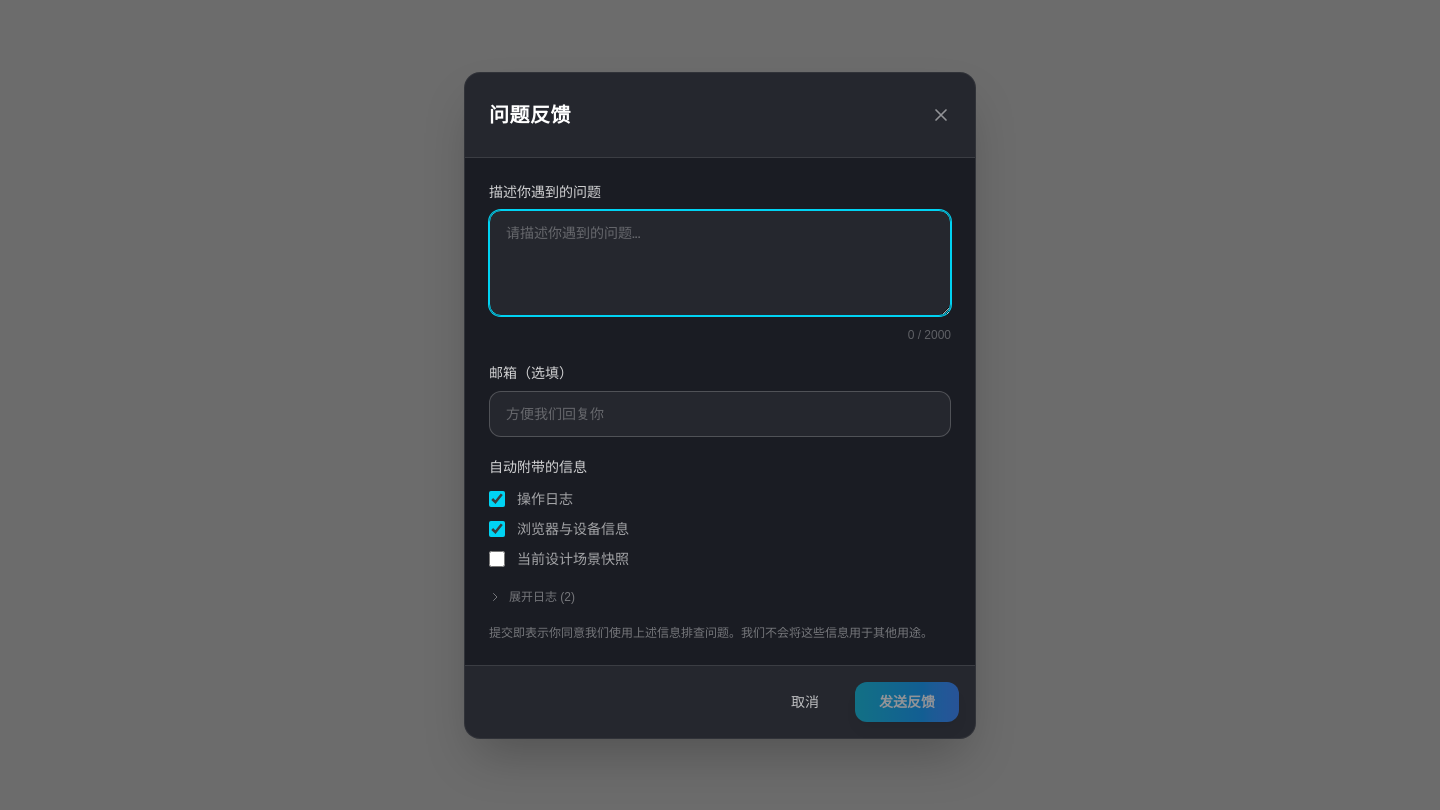
Test: FeedbackDialog › 展开/收起日志预览
Click the button "展开日志 (2)": (532, 596) [489, 588, 575, 604]
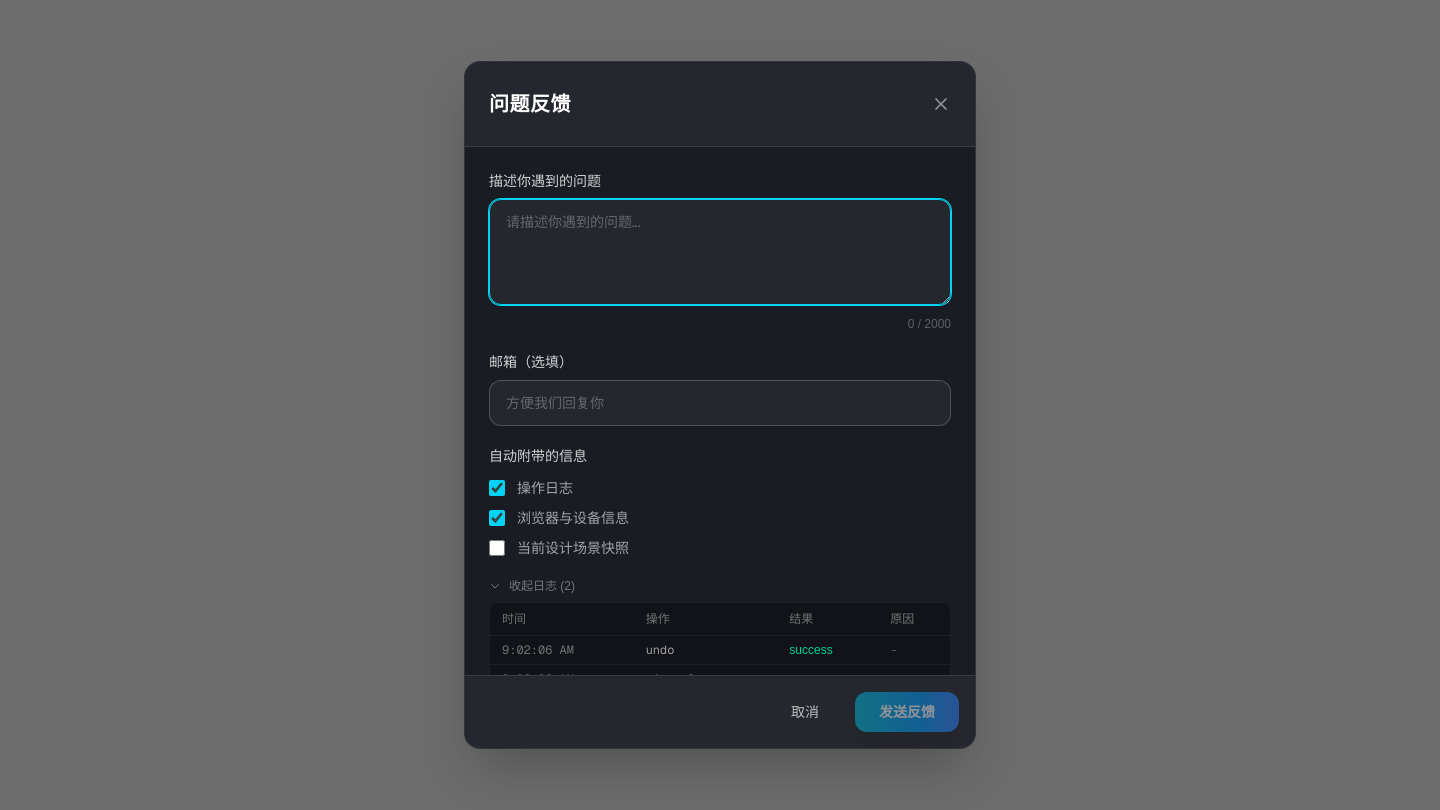
Result: the table is shown at [490, 603, 950, 675]
Click the button "收起日志 (2)": (532, 586) [489, 578, 575, 594]
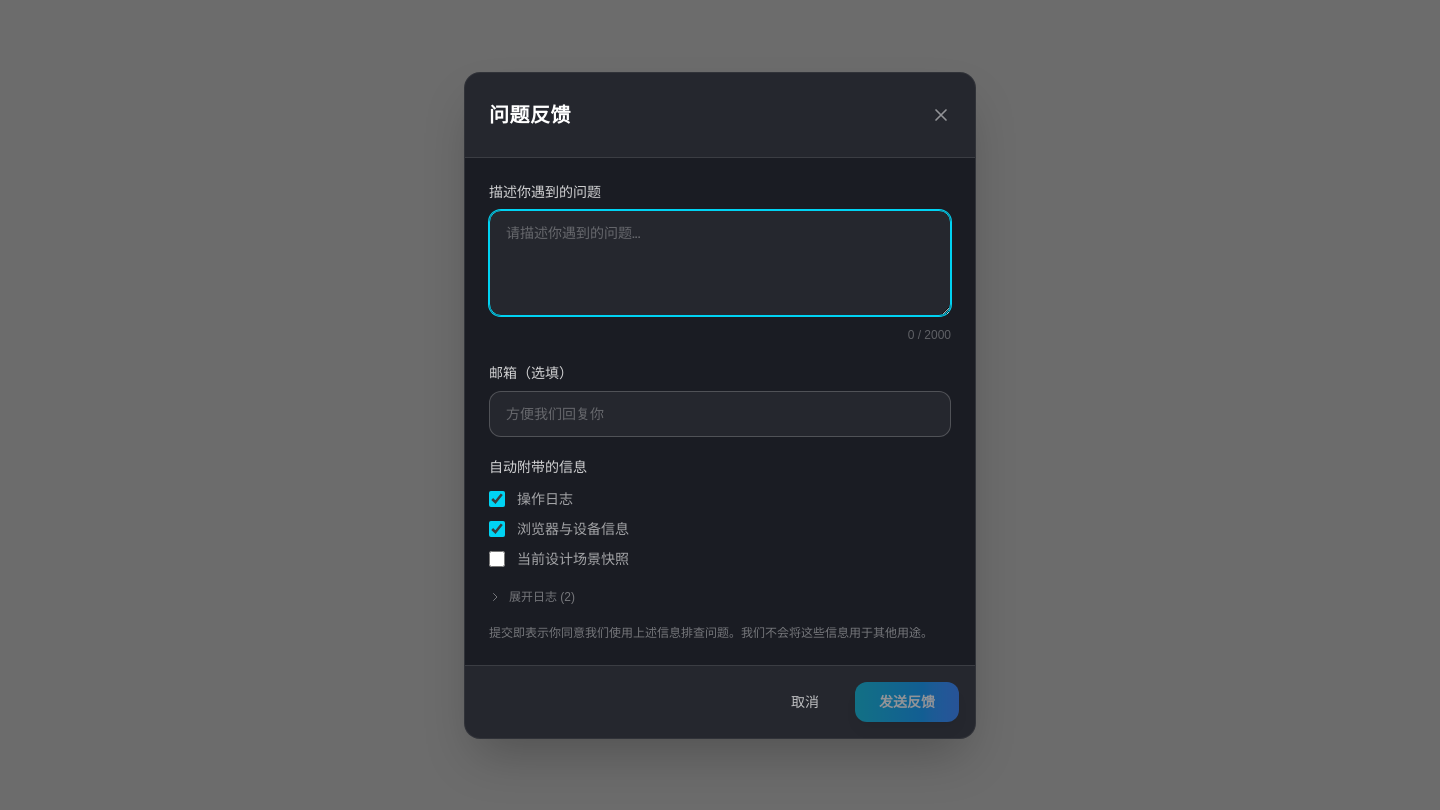
Result: the table is gone
